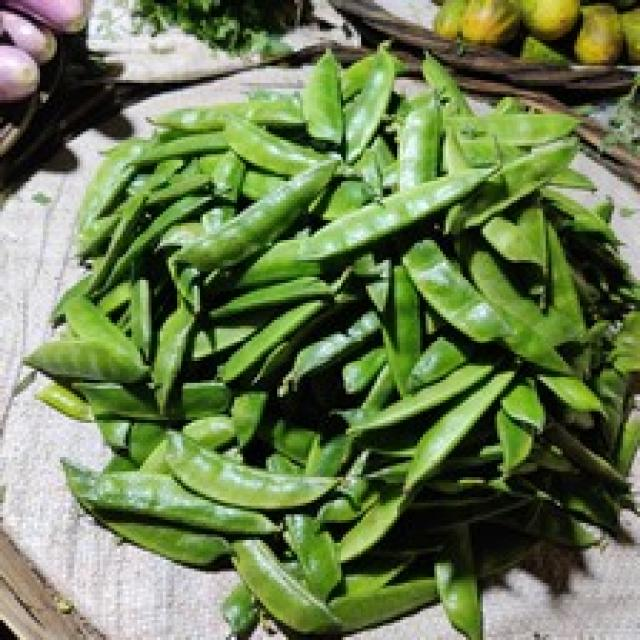Bean: (20, 40, 637, 637)
